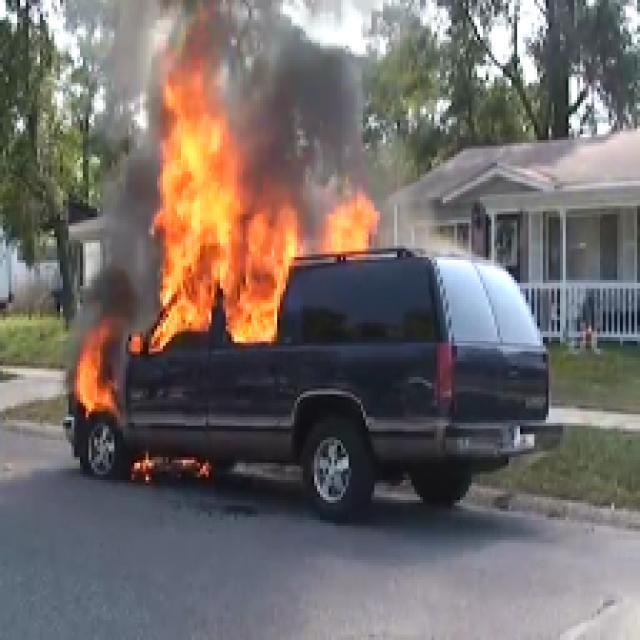Fire: (171, 105, 236, 338), (250, 215, 295, 330), (332, 208, 375, 255)
Smoke: (267, 42, 350, 175), (98, 163, 150, 320)
